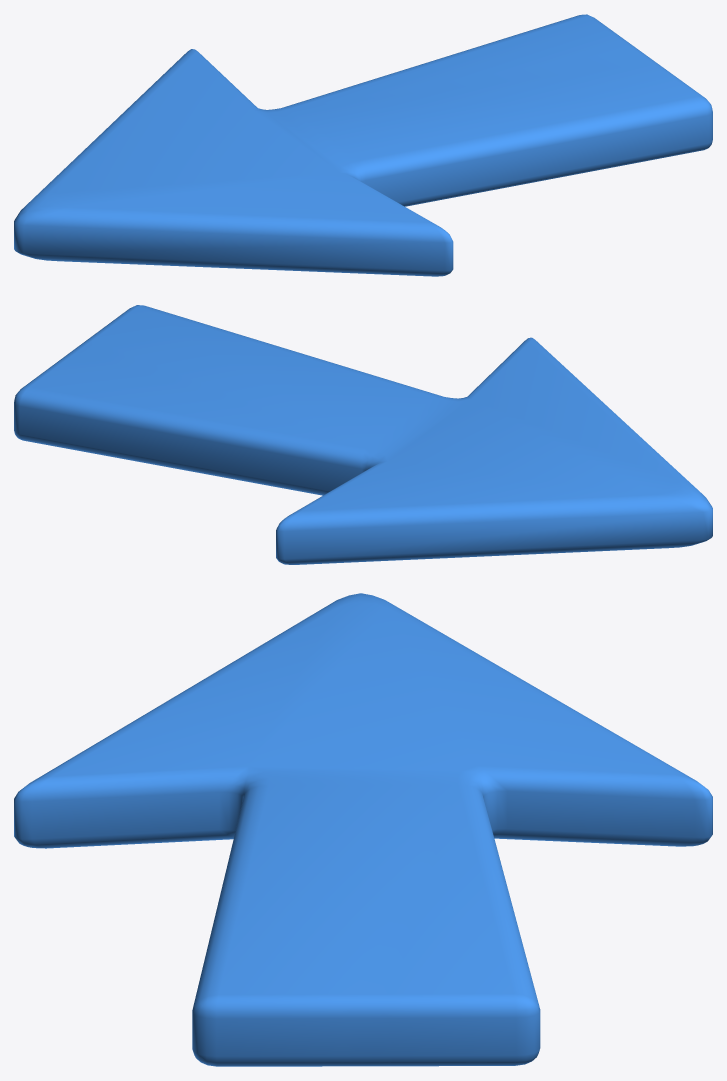
Rendered from direction_arrow5.glb.
3 renders of one model, top to bottom at view 1: azimuth 30°, elevation 25°; view 2: azimuth 150°, elevation 25°; view 3: azimuth 270°, elevation 25°, orthographic. The views are drawn at different scales.
Visible parts, largest first — view 1: Arrow_Material.001_0.001; view 2: Arrow_Material.001_0.001; view 3: Arrow_Material.001_0.001.
Part boxes in pixels (x1,y1,x2,y2): Arrow_Material.001_0.001: [14, 14, 712, 276]; Arrow_Material.001_0.001: [14, 305, 712, 564]; Arrow_Material.001_0.001: [14, 593, 712, 1066].
Size of the model in its own units: 3.01 by 0.236 by 2.11.
